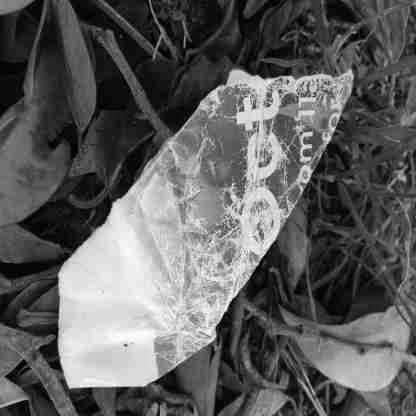plastic: (56, 64, 356, 395)
